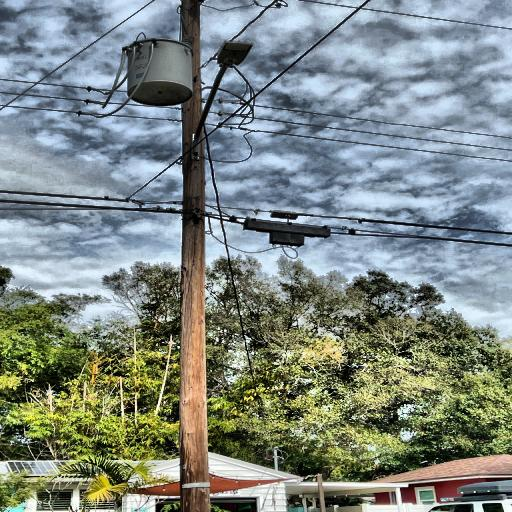pole: (171, 0, 228, 512)
street light: (187, 40, 257, 164)
transformer: (124, 38, 195, 106)
